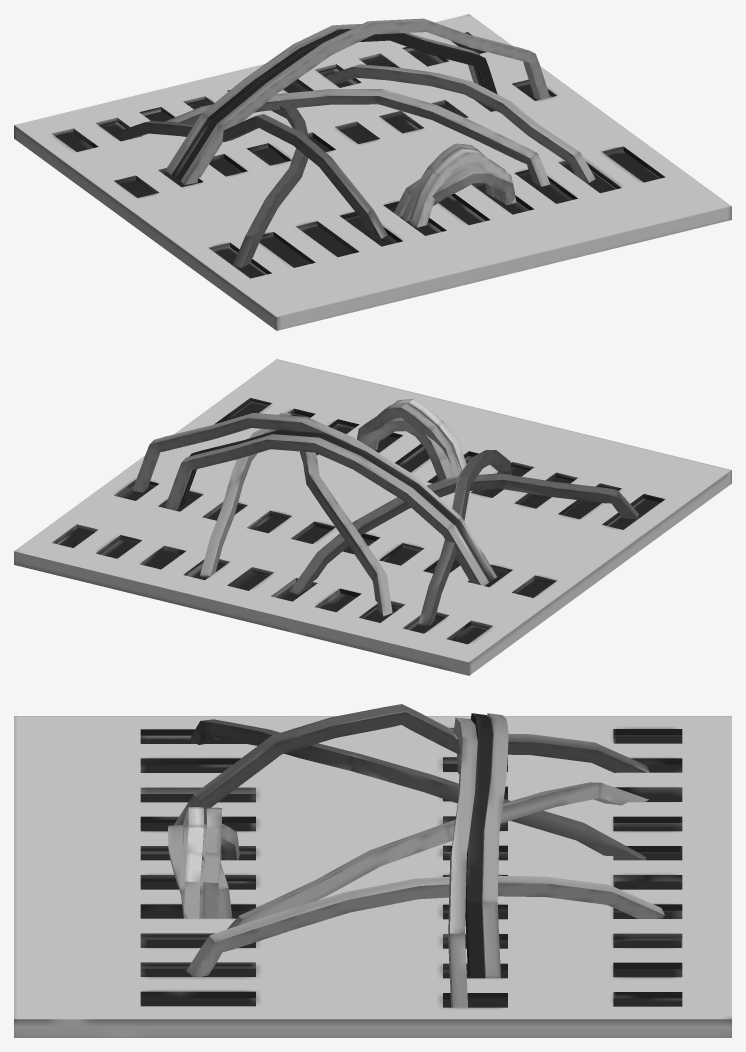
Rendered from Misc_Tech_C.fbx.
The picture shows the model from 3 angles, top to bottom: view 1: azimuth 30°, elevation 25°; view 2: azimuth 150°, elevation 25°; view 3: azimuth 270°, elevation 25°; orthographic projection. The views are drawn at different scales.
Parts seen in each view (by area): view 1: Misc_Tech_C; view 2: Misc_Tech_C; view 3: Misc_Tech_C.
Boxes of the visible parts, x1=… form: Misc_Tech_C: x1=14, y1=14, x2=731, y2=330; Misc_Tech_C: x1=14, y1=359, x2=731, y2=675; Misc_Tech_C: x1=14, y1=704, x2=731, y2=1037.
Bounding box in the file's own units: 200 × 53.11 × 200.
